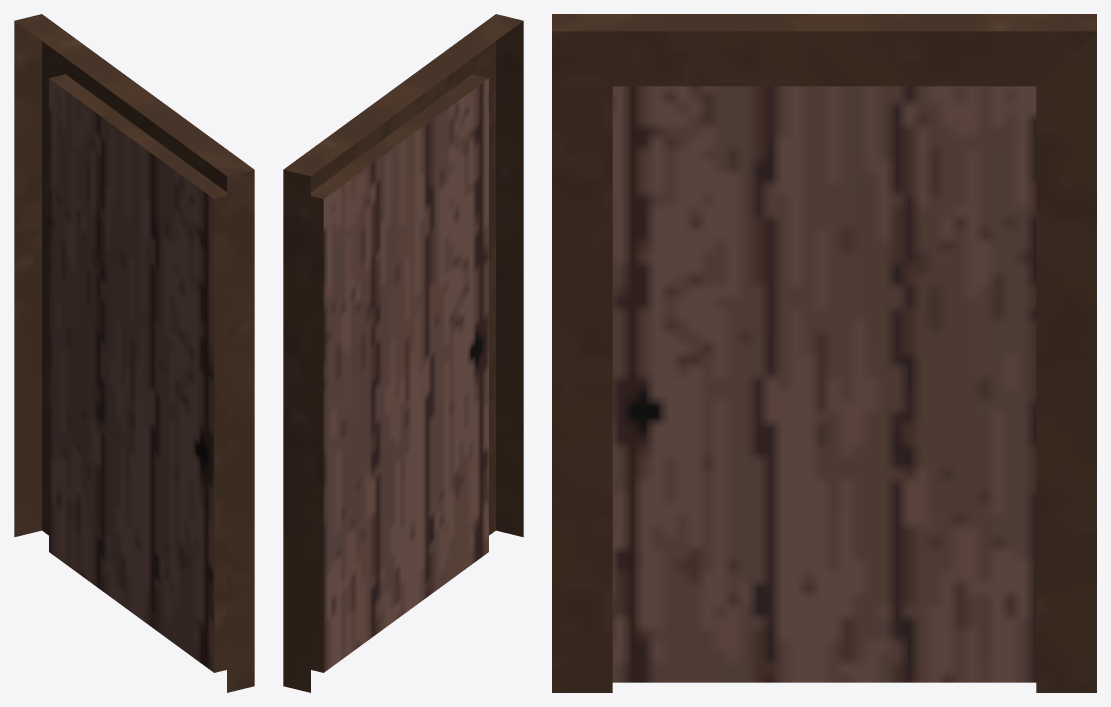
The model's file is L1_Market_Door.fbx.
The picture shows the model from 3 angles, left to right: view 1: azimuth 30°, elevation 25°; view 2: azimuth 150°, elevation 25°; view 3: azimuth 270°, elevation 25°; orthographic projection. The views are drawn at different scales.
Visible parts, largest first — view 1: L1_MarketDoor; view 2: L1_MarketDoor; view 3: L1_MarketDoor.
Boxes of the visible parts, x1=… form: L1_MarketDoor: x1=14, y1=14, x2=254, y2=692; L1_MarketDoor: x1=283, y1=14, x2=523, y2=692; L1_MarketDoor: x1=552, y1=14, x2=1096, y2=692.
Bounding box in the file's own units: 9.81 × 176 × 131.
Materials: 1 (1 with a texture image).
